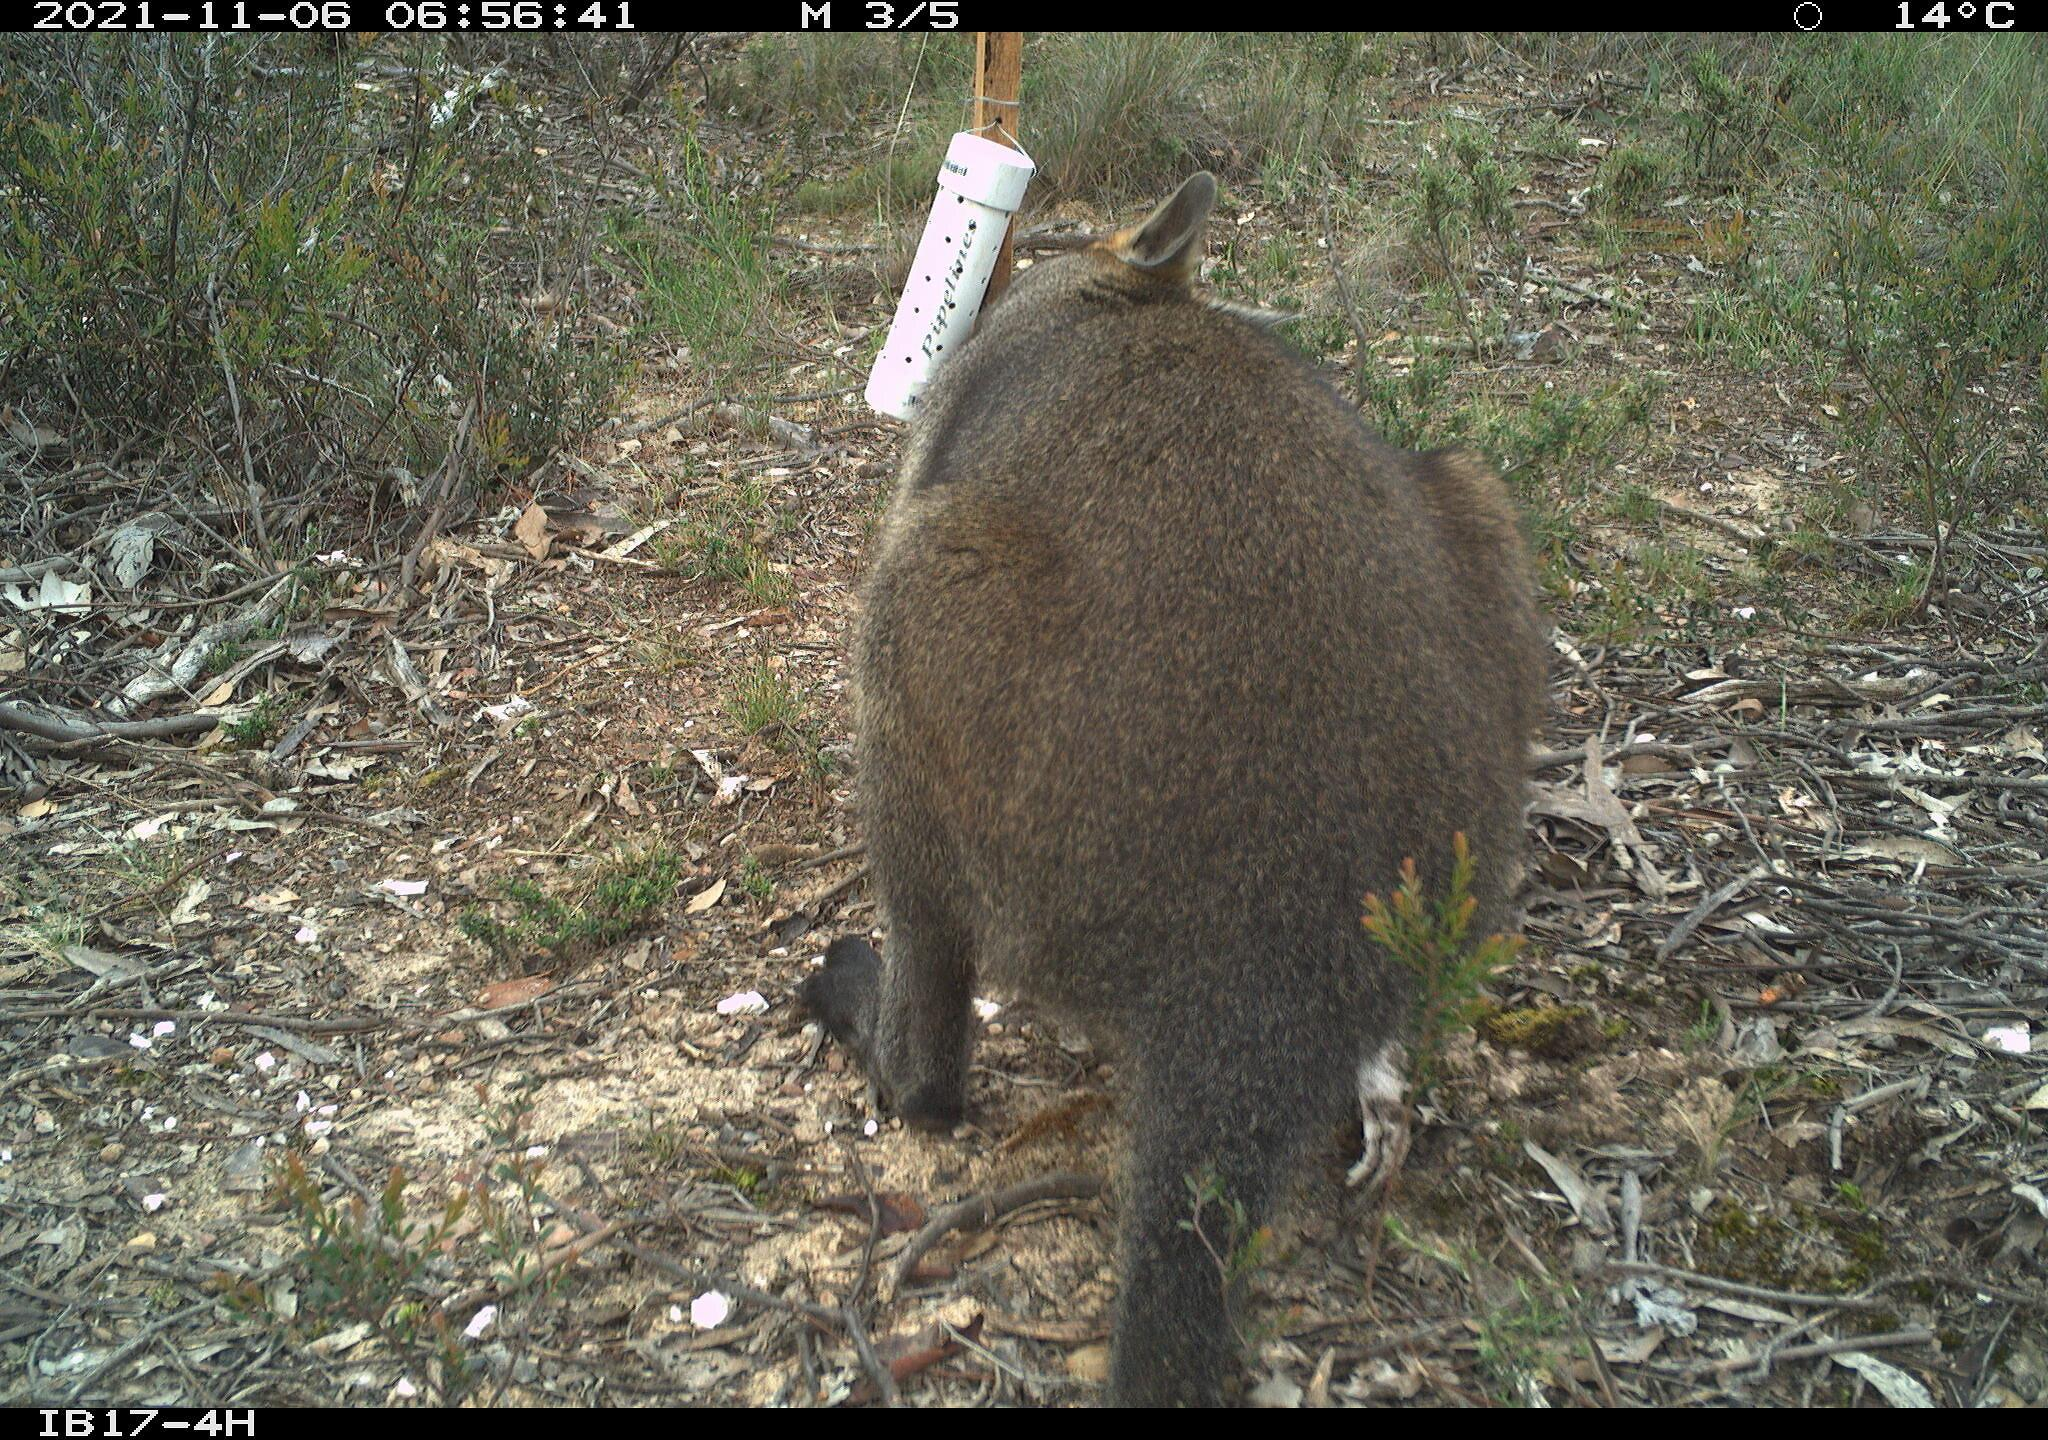Swamp wallaby: (806, 175, 1559, 1407)
